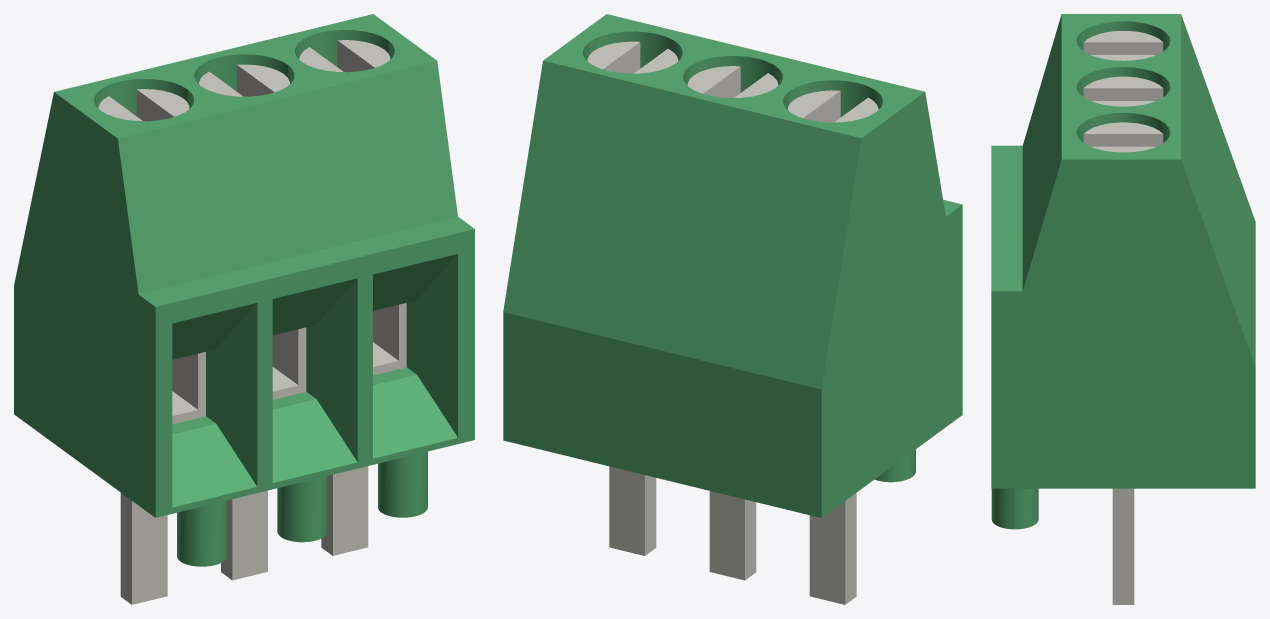
File: kc-terminalblock_phoenix_mpt-0_5-3-2.54_1x03_p2.54mm_horizontal.glb
3 renders of one model, left to right at view 1: azimuth 30°, elevation 25°; view 2: azimuth 150°, elevation 25°; view 3: azimuth 270°, elevation 25°, orthographic. The views are drawn at different scales.
Visible parts, largest first — view 1: 0.08333333333333333_0.4166666666666667_0.16666666666666666_0, 0.6666666666666666_0.6666666666666666_0.5833333333333334_0.8; view 2: 0.08333333333333333_0.4166666666666667_0.16666666666666666_0, 0.6666666666666666_0.6666666666666666_0.5833333333333334_0.8; view 3: 0.08333333333333333_0.4166666666666667_0.16666666666666666_0, 0.6666666666666666_0.6666666666666666_0.5833333333333334_0.8.
Part boxes in pixels (bbox=[...]): 0.08333333333333333_0.4166666666666667_0.16666666666666666_0: bbox=[14, 14, 474, 566]; 0.6666666666666666_0.6666666666666666_0.5833333333333334_0.8: bbox=[98, 40, 406, 604]; 0.08333333333333333_0.4166666666666667_0.16666666666666666_0: bbox=[503, 14, 962, 517]; 0.6666666666666666_0.6666666666666666_0.5833333333333334_0.8: bbox=[587, 41, 878, 604]; 0.08333333333333333_0.4166666666666667_0.16666666666666666_0: bbox=[991, 14, 1255, 529]; 0.6666666666666666_0.6666666666666666_0.5833333333333334_0.8: bbox=[1083, 31, 1163, 604].
Size of the model in its own units: 0.808 by 1.2 by 0.62.
